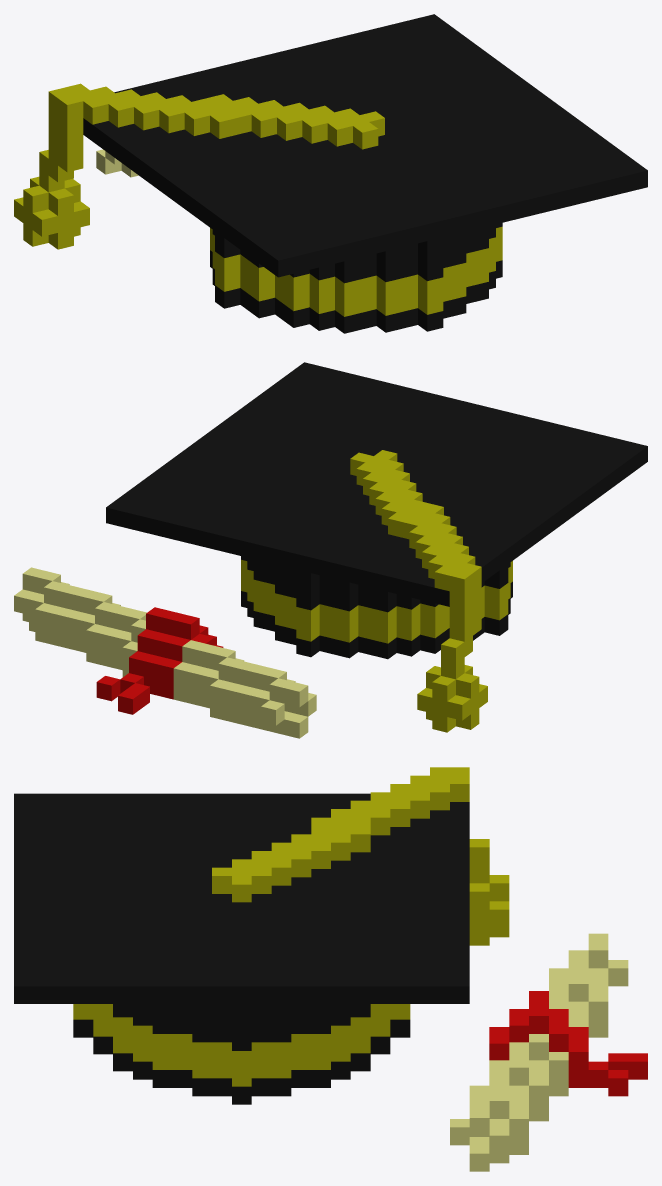
Rendered from diploma.glb.
3 views of the same model, one above another, from view 1: azimuth 30°, elevation 25°; view 2: azimuth 150°, elevation 25°; view 3: azimuth 270°, elevation 25° (orthographic). The views are drawn at different scales.
Visible parts, largest first — view 1: model; view 2: model; view 3: model.
Boxes of the visible parts, x1,y1,x2,y2 form: model: (14,14,647,333); model: (14,362,647,738); model: (14,767,647,1171).
Bounding box in the file's own units: 3 × 0.9 × 3.2.
